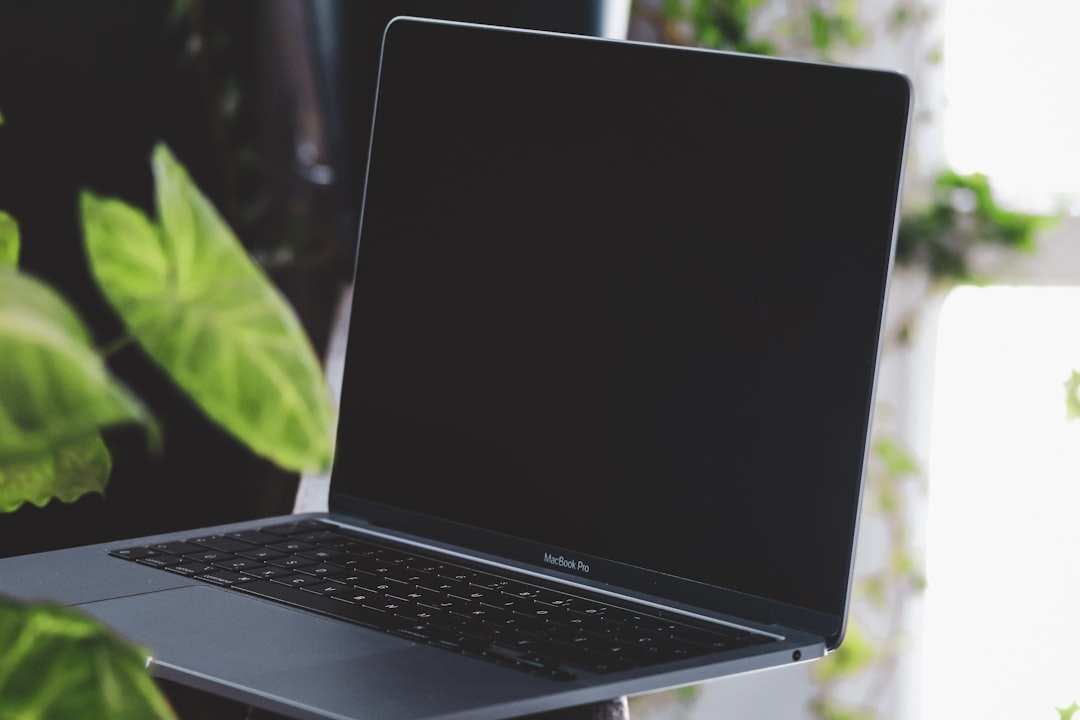laptop: (1, 11, 922, 720)
